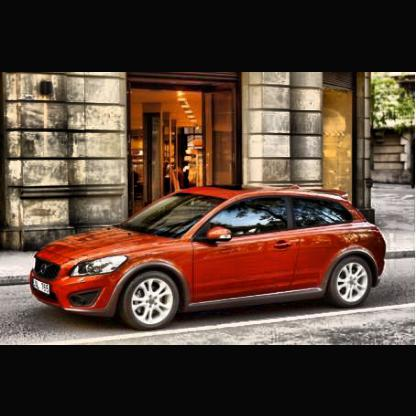Volvo C30 Hatchback 2012: (30, 190, 388, 335)
